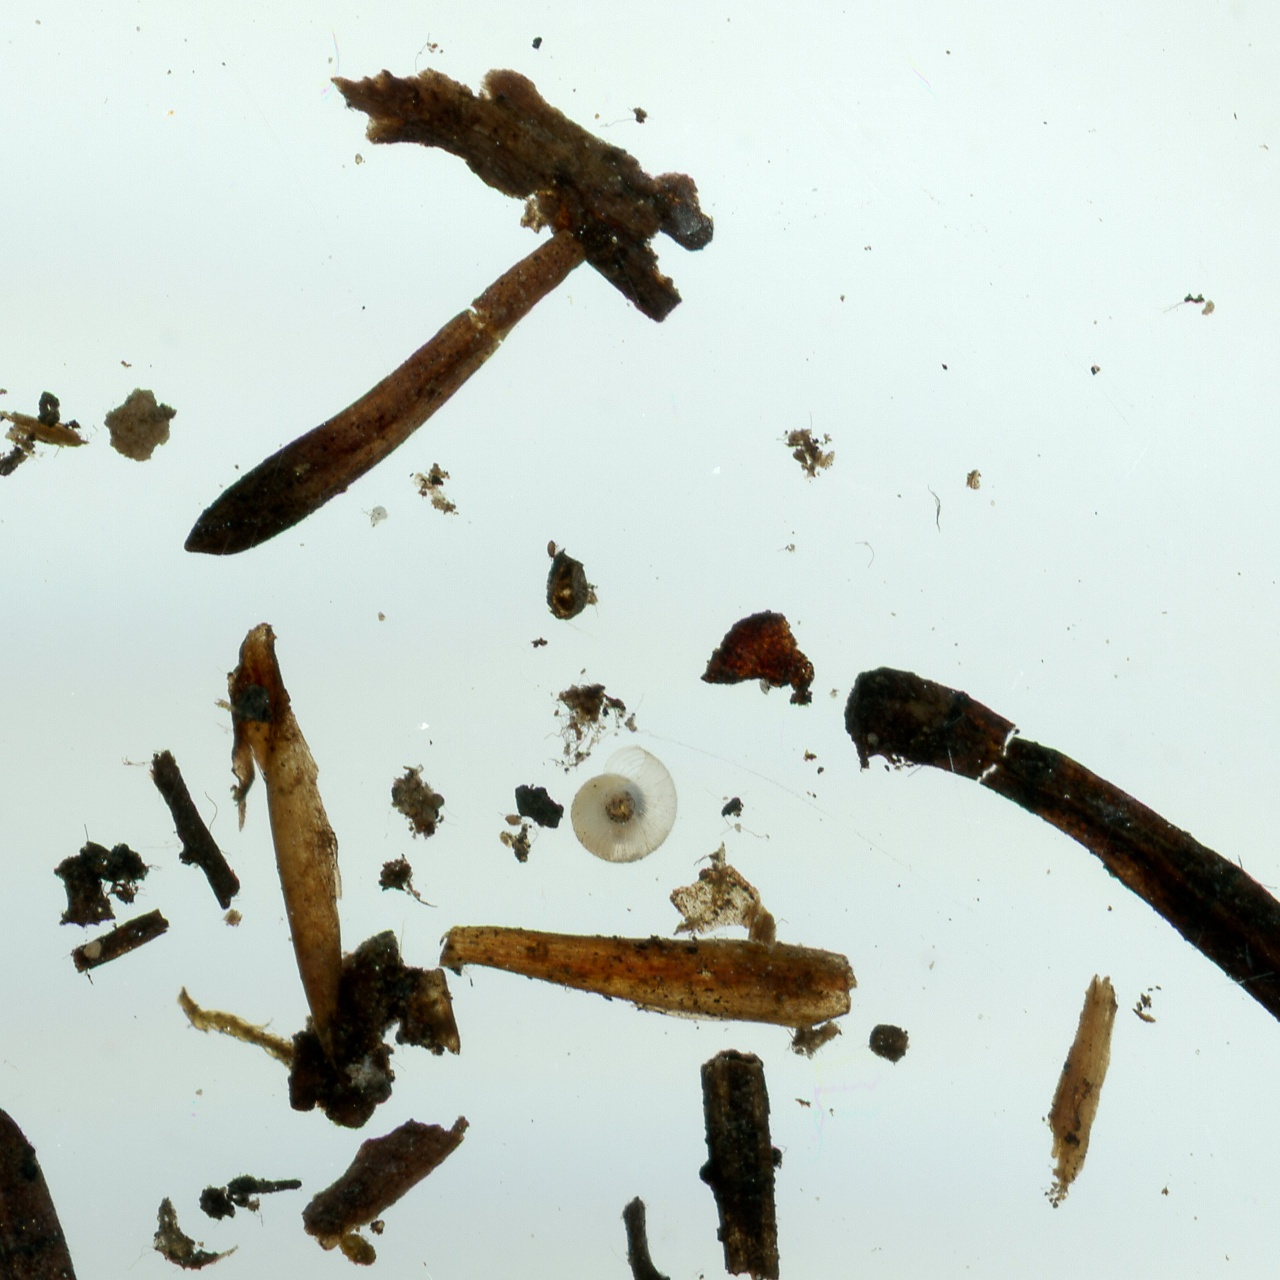arthropod: (562, 740, 683, 867)
